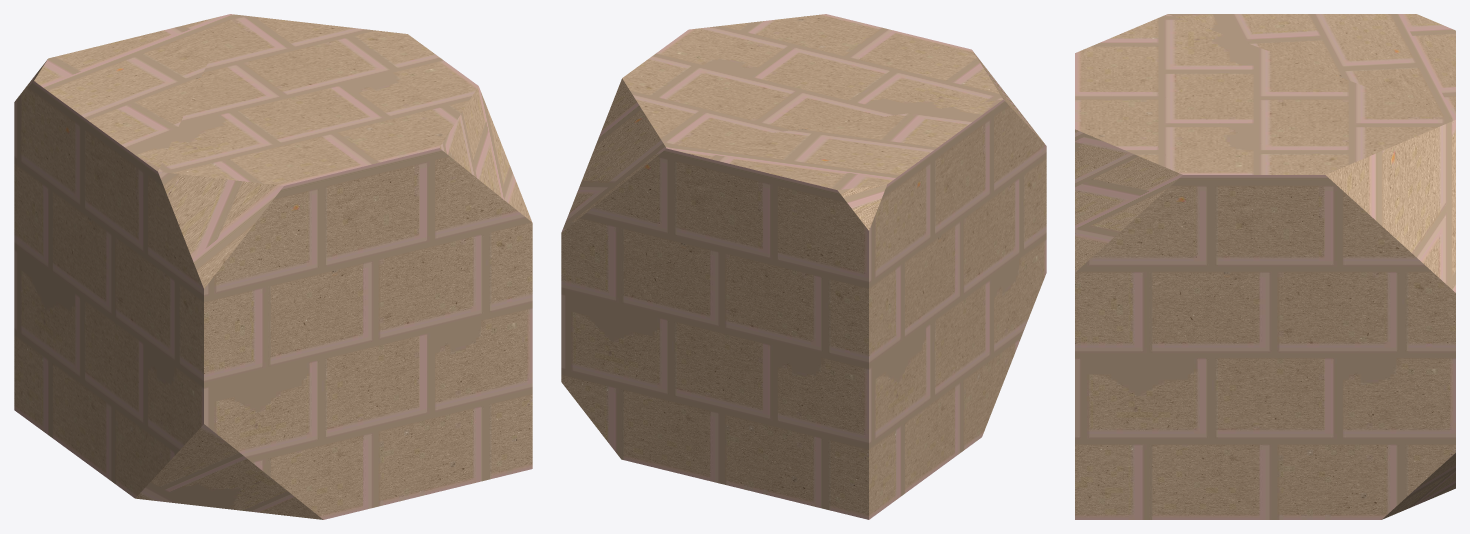
The model's file is BrokenBrick03.FBX.
3 renders of one model, left to right at view 1: azimuth 30°, elevation 25°; view 2: azimuth 150°, elevation 25°; view 3: azimuth 270°, elevation 25°, orthographic. The views are drawn at different scales.
Parts seen in each view (by area): view 1: Box011; view 2: Box011; view 3: Box011.
Boxes of the visible parts, x1,y1,x2,y2 form: Box011: (14, 14, 532, 519); Box011: (561, 14, 1046, 519); Box011: (1075, 14, 1455, 519).
Size of the model in its own units: 10 by 10 by 10.
1 material, 1 textured.
